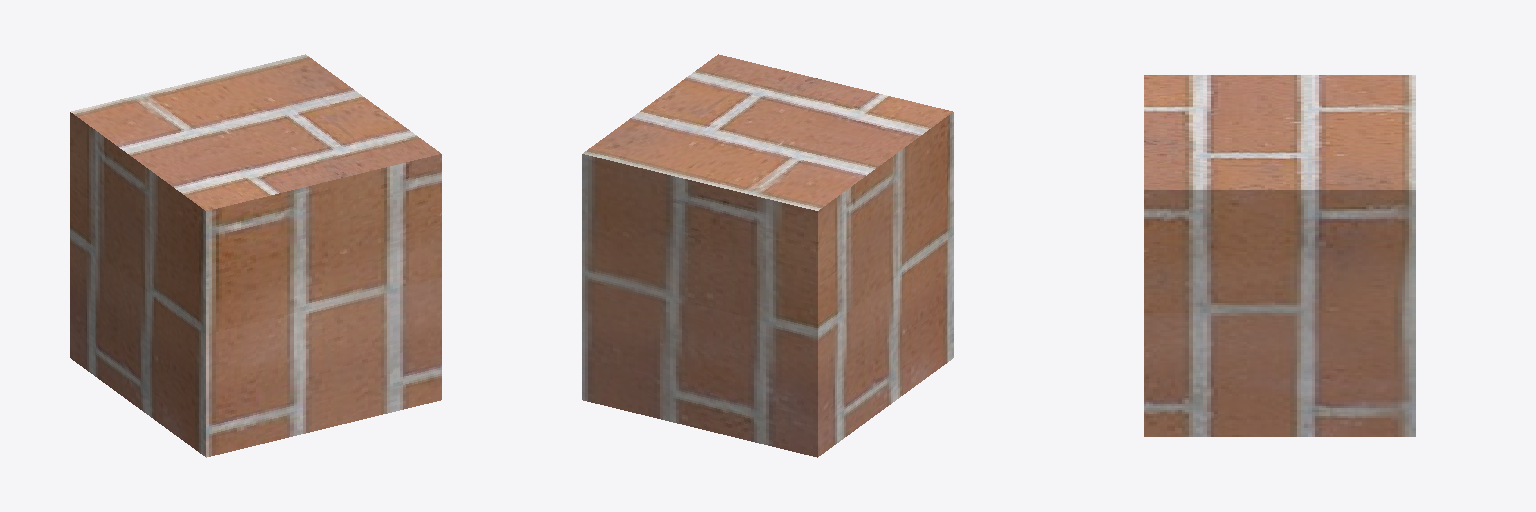
3 views of the same model, side by side, from view 1: azimuth 30°, elevation 25°; view 2: azimuth 150°, elevation 25°; view 3: azimuth 270°, elevation 25° (orthographic).
Parts seen in each view (by area): view 1: Cube_Cube.001; view 2: Cube_Cube.001; view 3: Cube_Cube.001.
Boxes of the visible parts, x1=… form: Cube_Cube.001: x1=70, y1=54, x2=441, y2=457; Cube_Cube.001: x1=582, y1=54, x2=953, y2=457; Cube_Cube.001: x1=1144, y1=75, x2=1415, y2=436.
Bounding box in the file's own units: 2 × 2 × 2.
1 materials, 1 textured.